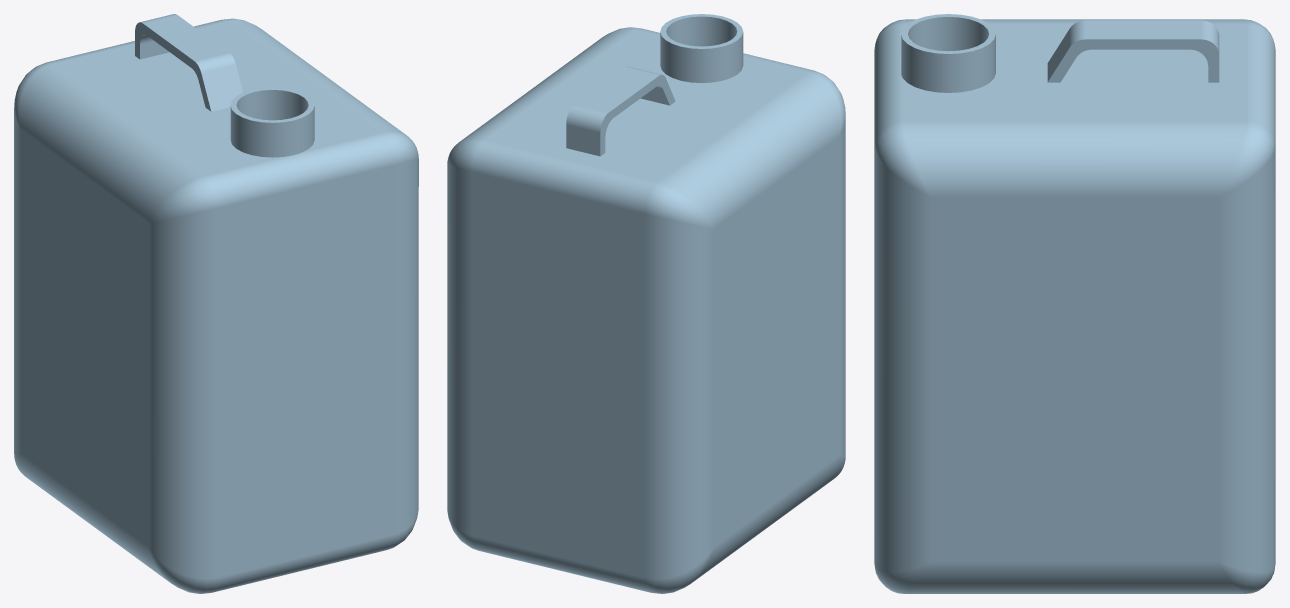
Rendered from kmc-vr-large-bottle.glb.
3 views of the same model, side by side, from view 1: azimuth 30°, elevation 25°; view 2: azimuth 150°, elevation 25°; view 3: azimuth 270°, elevation 25° (orthographic). The views are drawn at different scales.
Parts seen in each view (by area): view 1: Body_1; view 2: Body_1; view 3: Body_1.
Boxes of the visible parts, x1,y1,x2,y2 form: Body_1: (14, 14, 418, 593); Body_1: (447, 14, 845, 593); Body_1: (874, 14, 1275, 593).
Bounding box in the file's own units: 0.1519 × 0.2497 × 0.1778.
